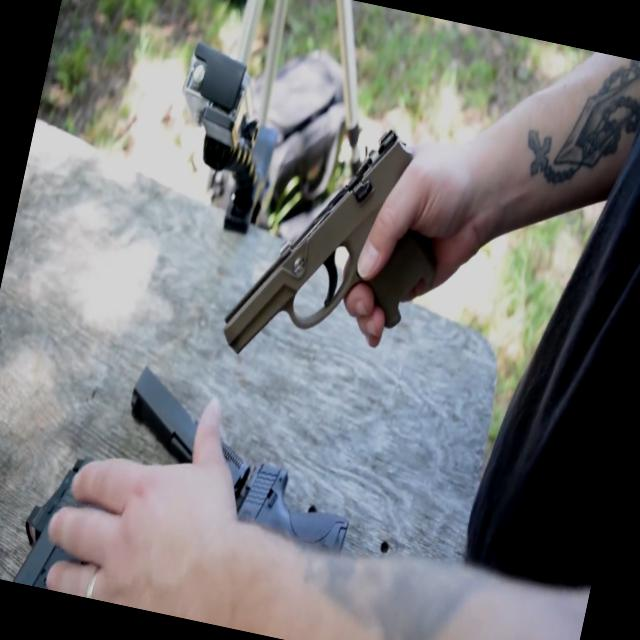handgun: (175, 81, 485, 440)
